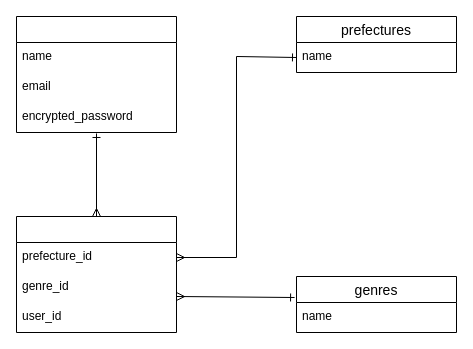
This 473x349 diagram has some shape labels left out. The shapes that lost their labels are listed below. From the top down, each one's box as (x1, y1, x2, y2) in pixels, then its label:
(16, 16, 176, 132): users
(16, 216, 176, 332): posts
